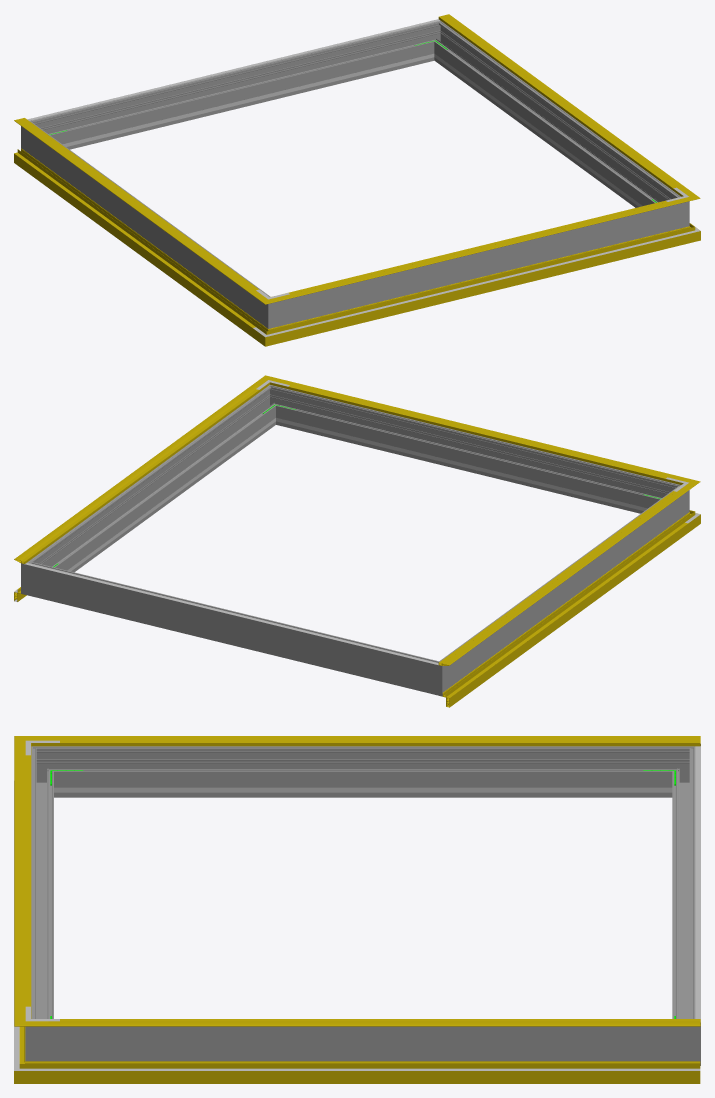
3 views of the same model, one above another, from view 1: azimuth 30°, elevation 25°; view 2: azimuth 150°, elevation 25°; view 3: azimuth 270°, elevation 25° (orthographic). The views are drawn at different scales.
Visible parts, largest first — view 1: 3DGeom-276, 3DGeom-298, 3DGeom-297, 3DGeom-90, 3DGeom-268, 3DGeom-85, 3DGeom-145, 3DGeom-141, 3DGeom-147, 3DGeom-244, 3DGeom-220, 3DGeom-100 (+9 smaller); view 2: 3DGeom-298, 3DGeom-276, 3DGeom-297, 3DGeom-268, 3DGeom-85, 3DGeom-141, 3DGeom-145, 3DGeom-147, 3DGeom-239, 3DGeom-220, 3DGeom-278, 3DGeom-158 (+6 smaller); view 3: 3DGeom-268, 3DGeom-297, 3DGeom-97, 3DGeom-147, 3DGeom-276, 3DGeom-298, 3DGeom-145, 3DGeom-141, 3DGeom-232, 3DGeom-98, 3DGeom-152, 3DGeom-154 (+7 smaller).
Part boxes in pixels (box(x1,y1,x2,y2)): 3DGeom-276: box(45, 25, 430, 149); 3DGeom-298: box(290, 206, 667, 323); 3DGeom-297: box(436, 28, 673, 207); 3DGeom-90: box(283, 230, 679, 341); 3DGeom-268: box(33, 128, 262, 319); 3DGeom-85: box(14, 148, 259, 337); 3DGeom-145: box(438, 14, 687, 193); 3DGeom-141: box(283, 200, 678, 299); 3DGeom-147: box(14, 118, 259, 295); 3DGeom-244: box(70, 59, 413, 145); 3DGeom-220: box(27, 19, 439, 120); 3DGeom-100: box(285, 235, 678, 331); 3DGeom-298: box(279, 389, 665, 513); 3DGeom-276: box(42, 565, 424, 690); 3DGeom-297: box(37, 392, 273, 572); 3DGeom-268: box(448, 492, 676, 683); 3DGeom-85: box(442, 518, 688, 707); 3DGeom-141: box(281, 380, 678, 482); 3DGeom-145: box(14, 384, 263, 563); 3DGeom-147: box(438, 489, 687, 665); 3DGeom-239: box(297, 423, 639, 509); 3DGeom-220: box(24, 563, 438, 664); 3DGeom-278: box(420, 655, 454, 696); 3DGeom-158: box(288, 385, 666, 478); 3DGeom-268: box(59, 746, 666, 797); 3DGeom-297: box(59, 1026, 666, 1061); 3DGeom-97: box(48, 1061, 700, 1083); 3DGeom-147: box(48, 736, 700, 746); 3DGeom-276: box(672, 758, 695, 1018); 3DGeom-298: box(31, 758, 53, 1018); 3DGeom-145: box(48, 1021, 700, 1026); 3DGeom-141: box(14, 750, 31, 1011); 3DGeom-232: box(87, 787, 639, 792); 3DGeom-98: box(48, 1068, 700, 1070); 3DGeom-152: box(60, 1019, 700, 1021); 3DGeom-154: box(60, 740, 700, 742).
Bounding box in the file's own units: 3.05 × 0.2829 × 3.05.
